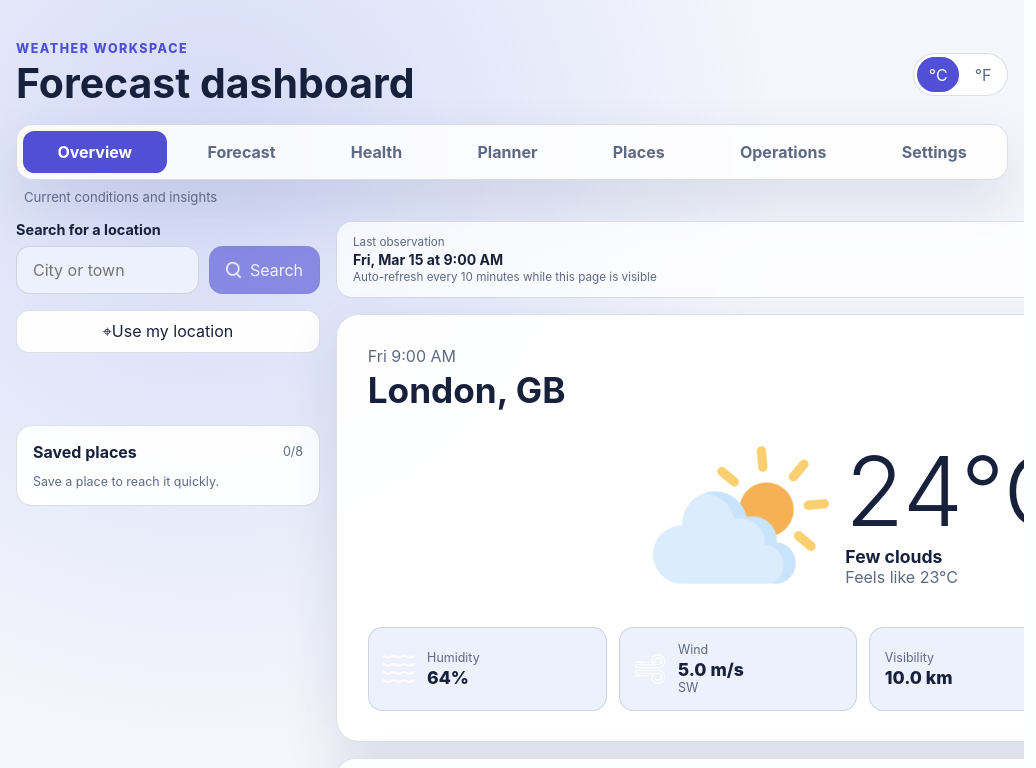
it: keeps current weather visible after a search error
This screenshot has width=1036, height=768.
Type "Paris" into the search field labelled "Search for a location" at (107, 270), box x1=16 y1=246 x2=198 y2=294
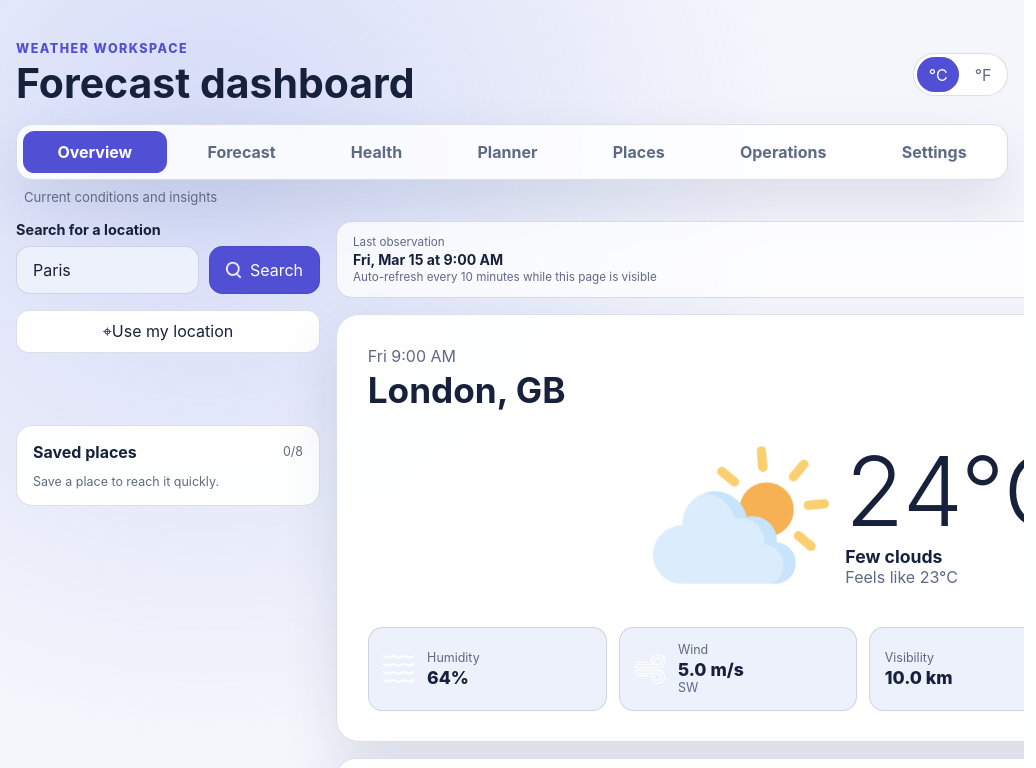
Click the button "Search" at (264, 270), box x1=209 y1=246 x2=320 y2=294
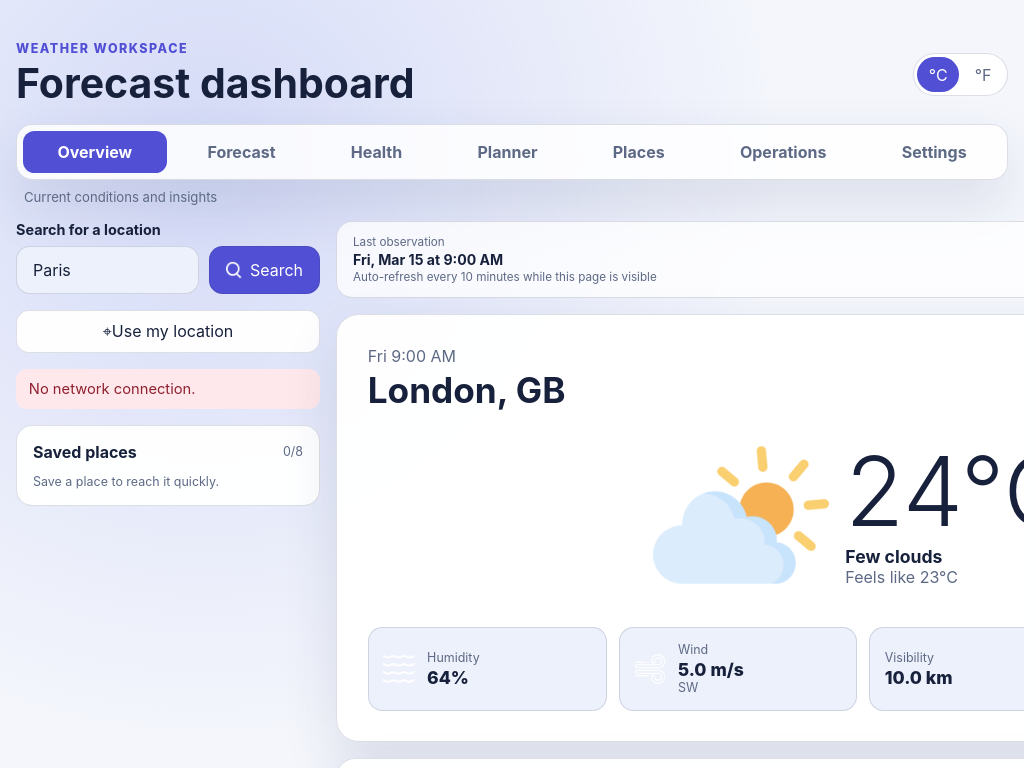
expect the heading "London, GB" is shown: met, box x1=368 y1=369 x2=566 y2=411
expect the message reads "No network connection.": met, box x1=29 y1=380 x2=196 y2=398
